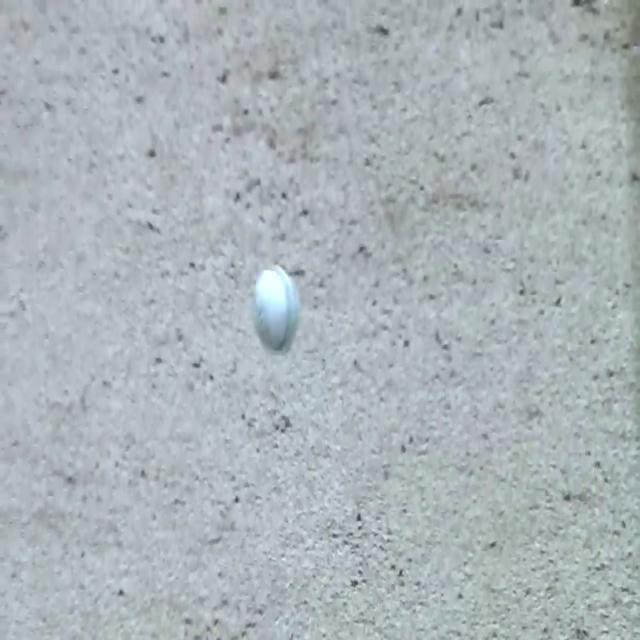ball: (250, 256, 300, 360)
